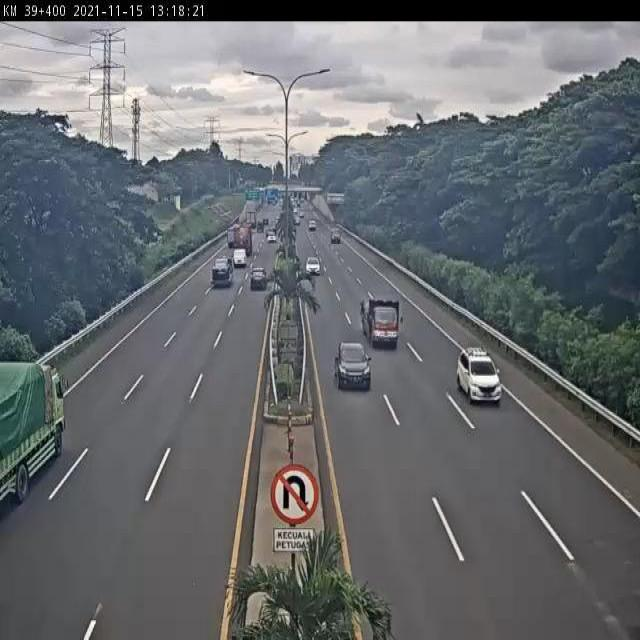car: (455, 342, 502, 407), (335, 341, 372, 391), (251, 266, 268, 290)
truck-m-: (0, 357, 69, 507), (360, 295, 401, 348), (211, 255, 235, 288)
